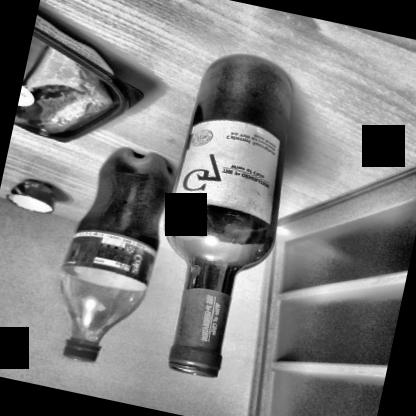G7: (171, 108, 290, 226)
